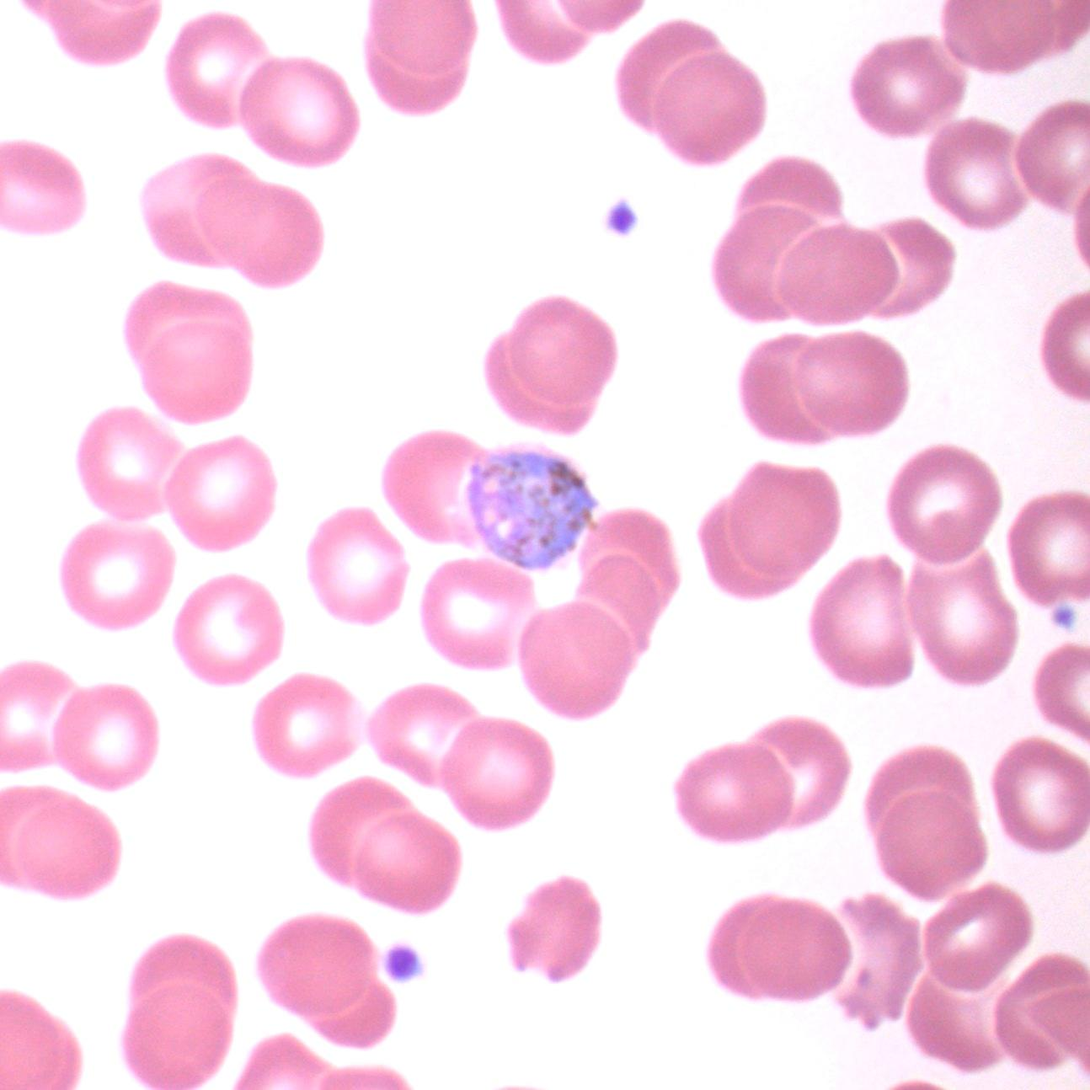Infected: (470, 447, 599, 575)
Uninfected: (189, 156, 323, 291), (707, 895, 848, 1002), (905, 552, 1013, 687), (644, 42, 764, 163), (887, 445, 1002, 566), (809, 555, 912, 689), (872, 777, 984, 896), (310, 778, 423, 893), (163, 437, 275, 553), (238, 58, 356, 167), (508, 293, 616, 412), (772, 220, 894, 325), (419, 559, 532, 671), (519, 605, 628, 718), (60, 522, 172, 631), (676, 738, 795, 840), (138, 307, 247, 418), (166, 10, 270, 126), (738, 333, 840, 451), (853, 32, 972, 133), (255, 920, 377, 1018), (382, 430, 484, 547), (306, 507, 408, 624), (988, 740, 1090, 857), (718, 213, 829, 320), (836, 894, 926, 1025), (142, 154, 243, 270), (77, 406, 179, 519), (748, 716, 848, 831), (174, 574, 280, 682), (800, 333, 906, 441), (444, 718, 548, 828), (922, 884, 1029, 990), (482, 336, 599, 431), (53, 683, 155, 791), (613, 24, 721, 126), (251, 674, 356, 778), (735, 463, 837, 570), (374, 683, 476, 787), (925, 118, 1023, 224), (0, 662, 93, 773), (998, 954, 1089, 1067), (579, 508, 677, 607), (512, 877, 600, 981), (907, 973, 999, 1069), (1013, 99, 1090, 213), (130, 937, 232, 1023), (368, 0, 473, 83), (869, 216, 957, 315), (950, 0, 1071, 71), (871, 743, 976, 824), (1013, 496, 1090, 603), (0, 138, 84, 233), (0, 991, 81, 1087), (0, 786, 78, 885), (580, 550, 663, 639), (737, 155, 841, 216)
